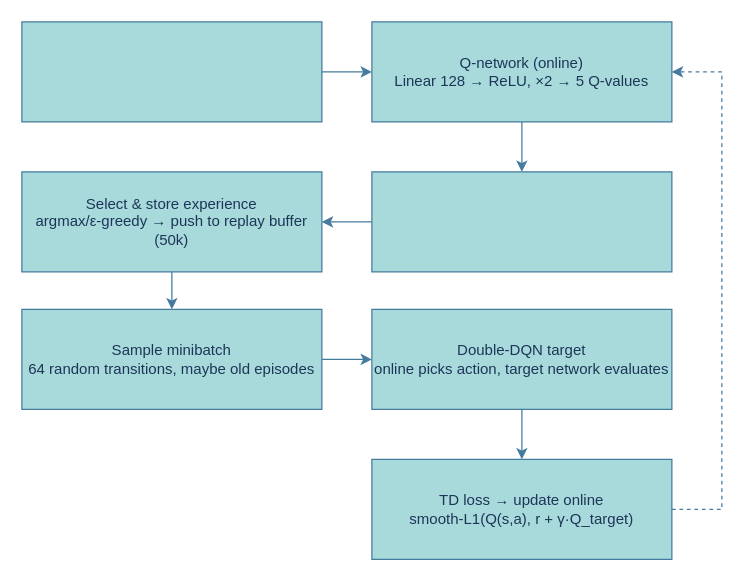
Some shapes in this 754 by 581 pixel diagram are drawn without their labels. The centre of each missing label's shape, as x and y in pixels:
Input state only (16-dim), no mask in the net: the point at 171,71
Mask invalid actions disallowed Q ← −∞ (after the network): the point at 521,221
